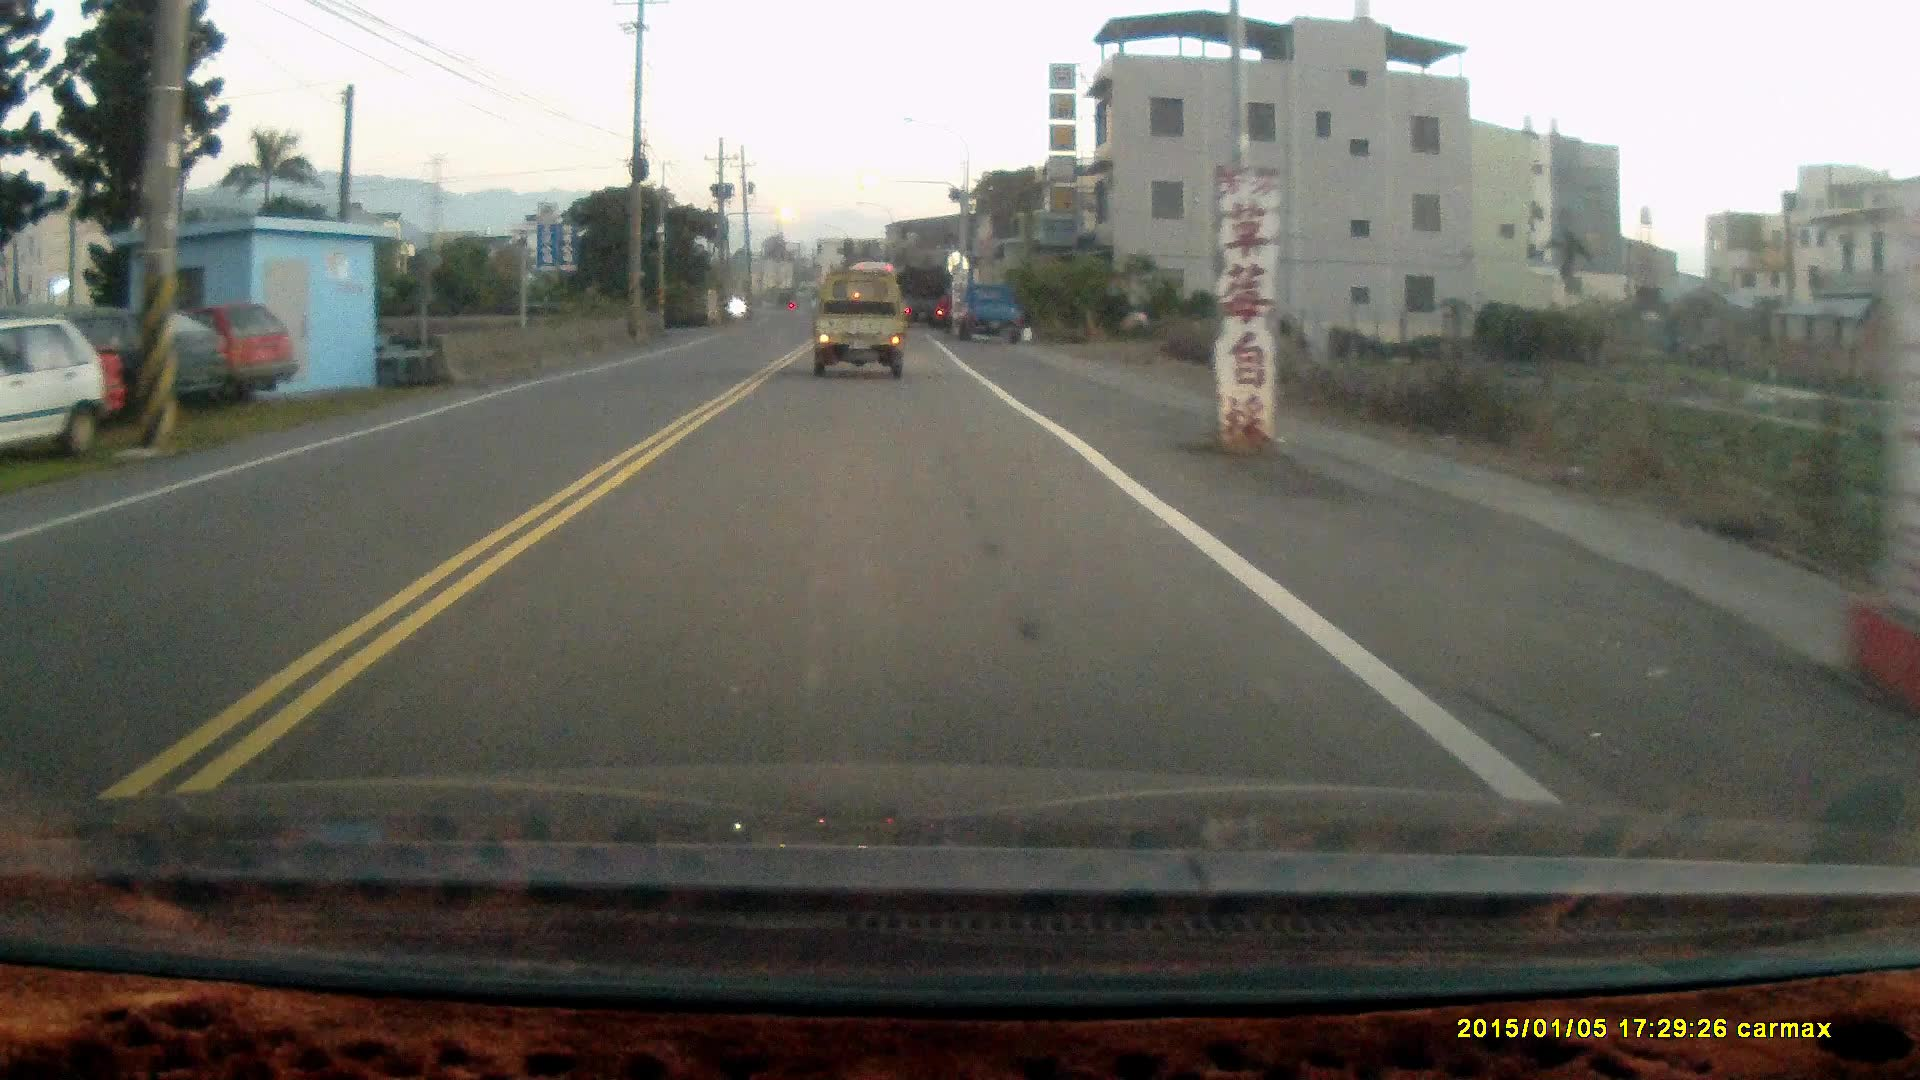vehicle: (18, 303, 243, 415), (71, 295, 289, 400), (1, 316, 108, 462), (814, 277, 910, 377), (956, 276, 1033, 340), (894, 261, 953, 327)
